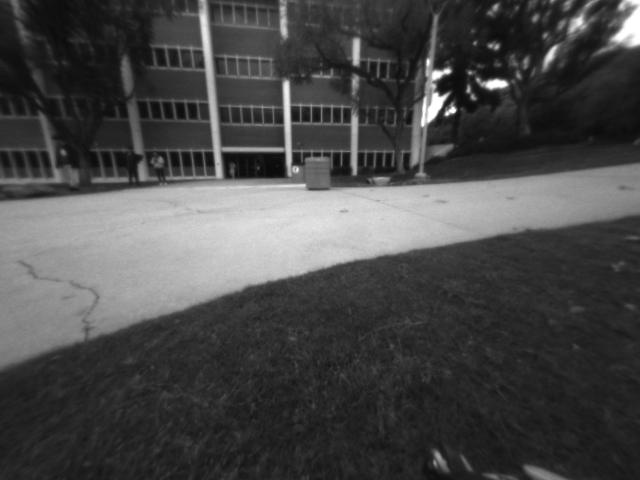trashcan: (305, 157, 330, 190), (291, 163, 303, 185)
